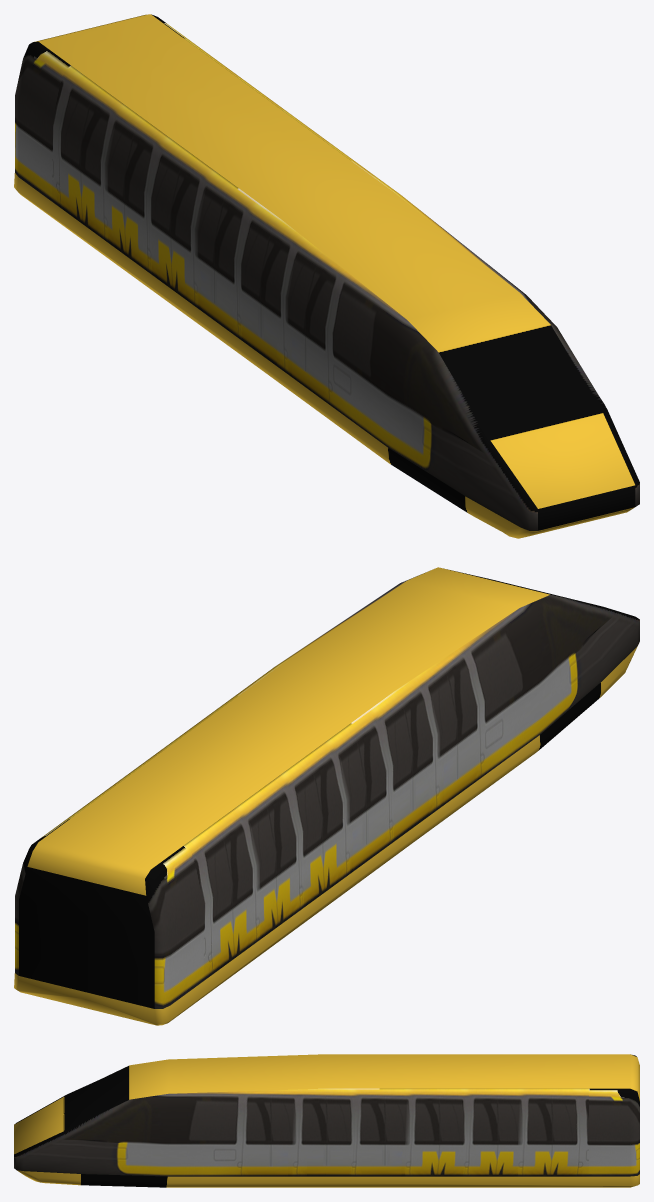
File: train4.FBX
The picture shows the model from 3 angles, top to bottom: view 1: azimuth 30°, elevation 25°; view 2: azimuth 150°, elevation 25°; view 3: azimuth 270°, elevation 25°; orthographic projection. The views are drawn at different scales.
Visible parts, largest first — view 1: Box001; view 2: Box001; view 3: Box001.
Part boxes in pixels (x1,y1,x2,y2): Box001: (14,14,639,538); Box001: (14,567,639,1025); Box001: (14,1054,639,1187).
Size of the model in its own units: 1552 by 1490 by 8844.
